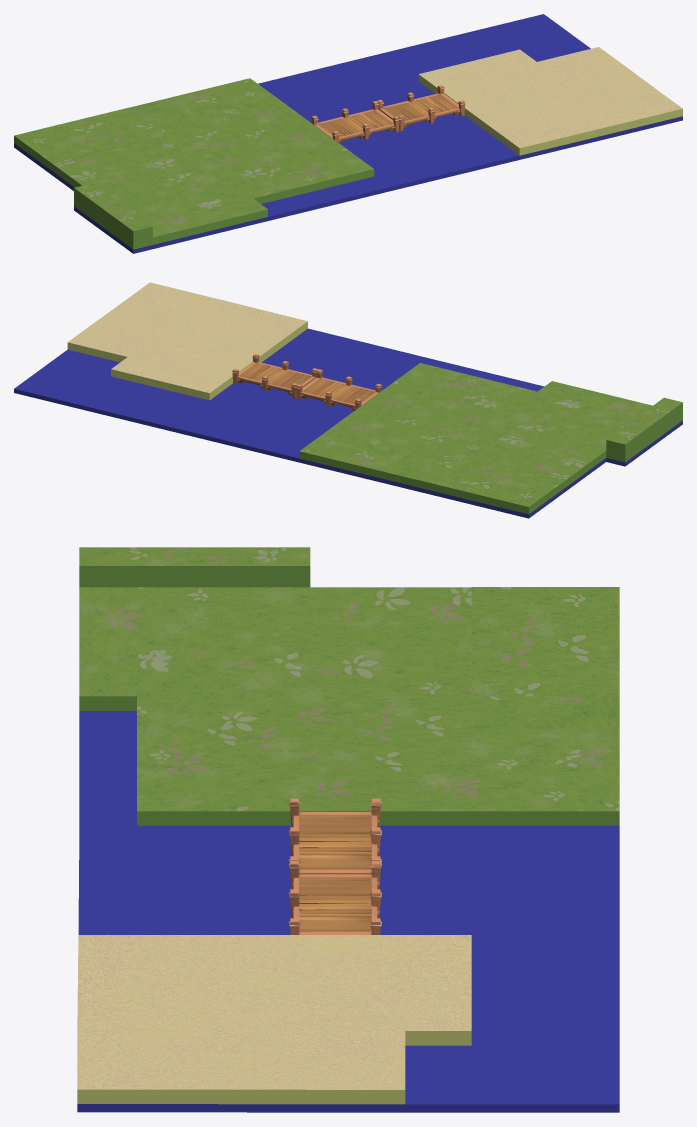
Rendered from MapaP.glb.
The picture shows the model from 3 angles, top to bottom: view 1: azimuth 30°, elevation 25°; view 2: azimuth 150°, elevation 25°; view 3: azimuth 270°, elevation 25°; orthographic projection. The views are drawn at different scales.
Parts seen in each view (by area): view 1: mesh_rep_0_ori_repair_quad; view 2: mesh_rep_0_ori_repair_quad; view 3: mesh_rep_0_ori_repair_quad.
Part boxes in pixels (left/top/right/bottom): mesh_rep_0_ori_repair_quad: left=14, top=14, right=682, bottom=253; mesh_rep_0_ori_repair_quad: left=14, top=282, right=682, bottom=518; mesh_rep_0_ori_repair_quad: left=77, top=547, right=619, bottom=1112.
Bounding box in the file's own units: 10.17 × 0.4019 × 4.47.
Materials: 7 (4 with a texture image).
